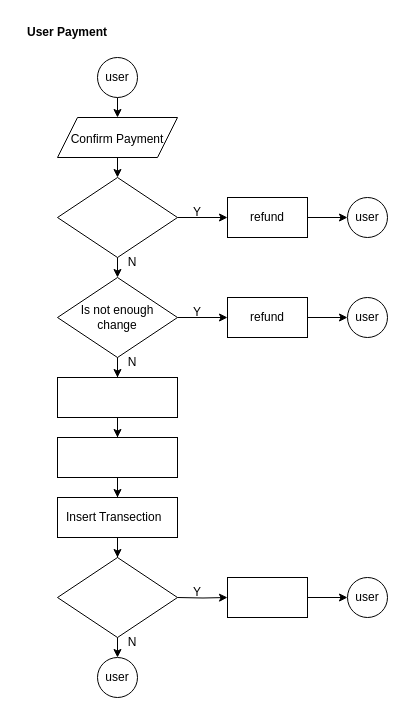
The diagram is 405 pixels wide and 715 high, and some of its shapes have lost their labels. Each missing label, with the centre of its shape:
Calulate Change: point 117,397
change: point 267,597
Is Change > 0: point 117,597
Is exceeded the limit: point 117,217
Update Cashier: point 117,457
